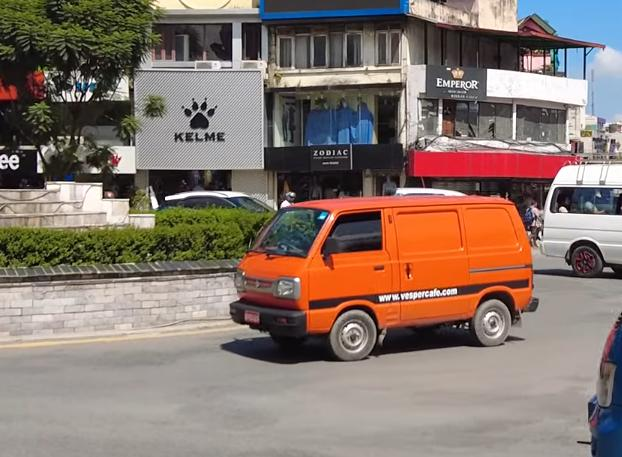micro_bus: (537, 151, 622, 281)
van: (221, 189, 543, 359)
